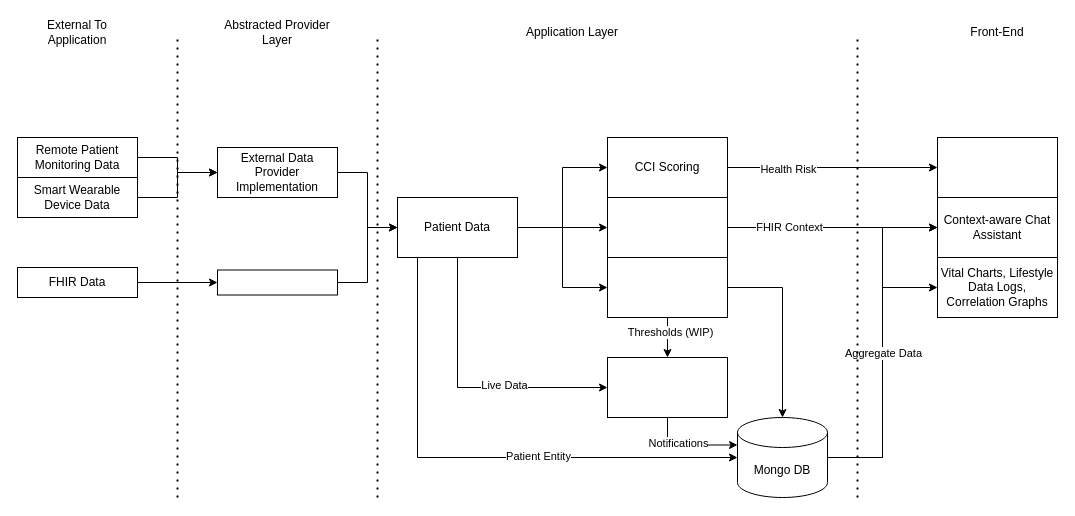
The diagram is 1075 pixels wide and 516 high, and some of its shapes have lost their labels. Here are the shapes that lost their labels. From the top down, the box of each, then its label:
(936, 136, 1058, 198): Dashboard Sorting & Health Risk Panel
(606, 196, 728, 258): LLM Context
(216, 269, 338, 295): FHIR Client
(606, 256, 728, 318): Aggregation Pipeline
(606, 356, 728, 418): Health Check
